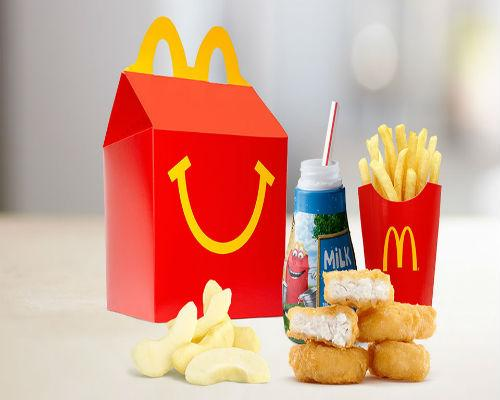mcdonalds: (379, 223, 422, 275)
